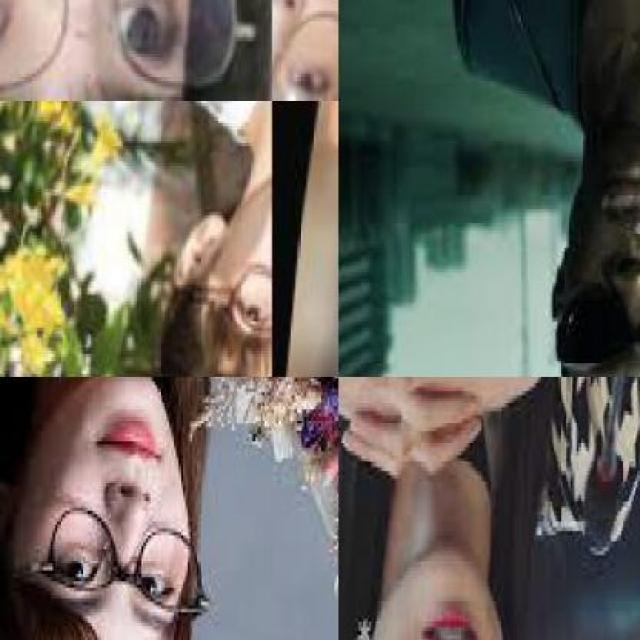1: (551, 264, 638, 376)
glasses: (0, 0, 268, 100), (24, 503, 210, 623), (175, 254, 272, 375), (274, 0, 337, 102)
